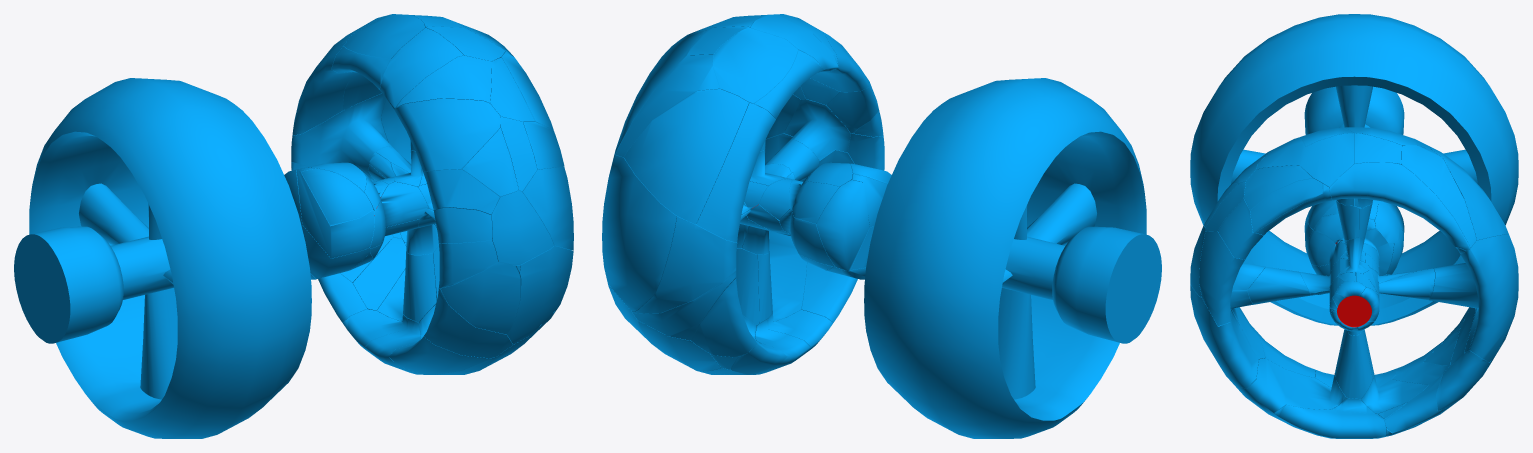
The model's file is BLUE fraction SpaceShip 1 BROKEN.fbx.
3 renders of one model, left to right at view 1: azimuth 30°, elevation 25°; view 2: azimuth 150°, elevation 25°; view 3: azimuth 270°, elevation 25°, orthographic. The views are drawn at different scales.
Parts seen in each view (by area): view 1: SpaceShip RED FRACTION 1, SpaceShip RED FRACTION 1_cell.088, SpaceShip RED FRACTION 1_cell.076, SpaceShip RED FRACTION 1_cell.019, SpaceShip RED FRACTION 1_cell.082, SpaceShip RED FRACTION 1_cell.072, SpaceShip RED FRACTION 1_cell.026, SpaceShip RED FRACTION 1_cell, SpaceShip RED FRACTION 1_cell.020, SpaceShip RED FRACTION 1_cell.067, SpaceShip RED FRACTION 1_cell.004, SpaceShip RED FRACTION 1_cell.056 (+26 smaller); view 2: SpaceShip RED FRACTION 1, SpaceShip RED FRACTION 1_cell.053, SpaceShip RED FRACTION 1_cell.034, SpaceShip RED FRACTION 1_cell.076, SpaceShip RED FRACTION 1_cell.056, SpaceShip RED FRACTION 1_cell.073, SpaceShip RED FRACTION 1_cell.048, SpaceShip RED FRACTION 1_cell.075, SpaceShip RED FRACTION 1_cell.093, SpaceShip RED FRACTION 1_cell.024, SpaceShip RED FRACTION 1_cell.072, SpaceShip RED FRACTION 1_cell.101 (+24 smaller); view 3: SpaceShip RED FRACTION 1, SpaceShip RED FRACTION 1_cell.034, SpaceShip RED FRACTION 1_cell.043, SpaceShip RED FRACTION 1_cell.024, SpaceShip RED FRACTION 1_cell.082, SpaceShip RED FRACTION 1_cell.004, SpaceShip RED FRACTION 1_cell.075, SpaceShip RED FRACTION 1_cell.071, SpaceShip RED FRACTION 1_cell.098, SpaceShip RED FRACTION 1_cell.053, SpaceShip RED FRACTION 1_cell.076, SpaceShip RED FRACTION 1_cell.092 (+34 smaller).
Part boxes in pixels (<box>): SpaceShip RED FRACTION 1: <box>14,78,311,438</box>; SpaceShip RED FRACTION 1_cell.088: <box>394,98,500,171</box>; SpaceShip RED FRACTION 1_cell.076: <box>291,93,392,181</box>; SpaceShip RED FRACTION 1_cell.019: <box>440,262,520,334</box>; SpaceShip RED FRACTION 1_cell.082: <box>507,245,573,344</box>; SpaceShip RED FRACTION 1_cell.072: <box>491,190,553,265</box>; SpaceShip RED FRACTION 1_cell.026: <box>379,28,463,108</box>; SpaceShip RED FRACTION 1_cell: <box>396,55,491,107</box>; SpaceShip RED FRACTION 1_cell.020: <box>296,167,374,258</box>; SpaceShip RED FRACTION 1_cell.067: <box>424,288,512,358</box>; SpaceShip RED FRACTION 1_cell.004: <box>522,166,573,250</box>; SpaceShip RED FRACTION 1_cell.056: <box>292,43,357,135</box>; SpaceShip RED FRACTION 1: <box>864,78,1161,438</box>; SpaceShip RED FRACTION 1_cell.053: <box>624,89,748,224</box>; SpaceShip RED FRACTION 1_cell.034: <box>602,155,676,311</box>; SpaceShip RED FRACTION 1_cell.076: <box>631,216,737,313</box>; SpaceShip RED FRACTION 1_cell.056: <box>696,102,775,242</box>; SpaceShip RED FRACTION 1_cell.073: <box>712,28,798,103</box>; SpaceShip RED FRACTION 1_cell.048: <box>816,180,869,271</box>; SpaceShip RED FRACTION 1_cell.075: <box>615,54,720,157</box>; SpaceShip RED FRACTION 1_cell.093: <box>691,278,757,356</box>; SpaceShip RED FRACTION 1_cell.024: <box>769,231,807,321</box>; SpaceShip RED FRACTION 1_cell.072: <box>784,99,850,160</box>; SpaceShip RED FRACTION 1_cell.101: <box>632,271,736,340</box>; SpaceShip RED FRACTION 1: <box>1190,14,1518,325</box>; SpaceShip RED FRACTION 1_cell.034: <box>1460,234,1518,361</box>; SpaceShip RED FRACTION 1_cell.043: <box>1329,162,1470,250</box>; SpaceShip RED FRACTION 1_cell.024: <box>1235,358,1346,431</box>; SpaceShip RED FRACTION 1_cell.082: <box>1190,285,1258,388</box>; SpaceShip RED FRACTION 1_cell.004: <box>1199,231,1244,326</box>; SpaceShip RED FRACTION 1_cell.075: <box>1401,145,1476,254</box>; SpaceShip RED FRACTION 1_cell.071: <box>1274,405,1386,438</box>; SpaceShip RED FRACTION 1_cell.098: <box>1299,133,1354,205</box>; SpaceShip RED FRACTION 1_cell.053: <box>1429,146,1508,240</box>; SpaceShip RED FRACTION 1_cell.076: <box>1429,263,1515,361</box>; SpaceShip RED FRACTION 1_cell.092: <box>1335,329,1372,398</box>.
Bounding box in the file's own units: 366 × 259 × 259.
